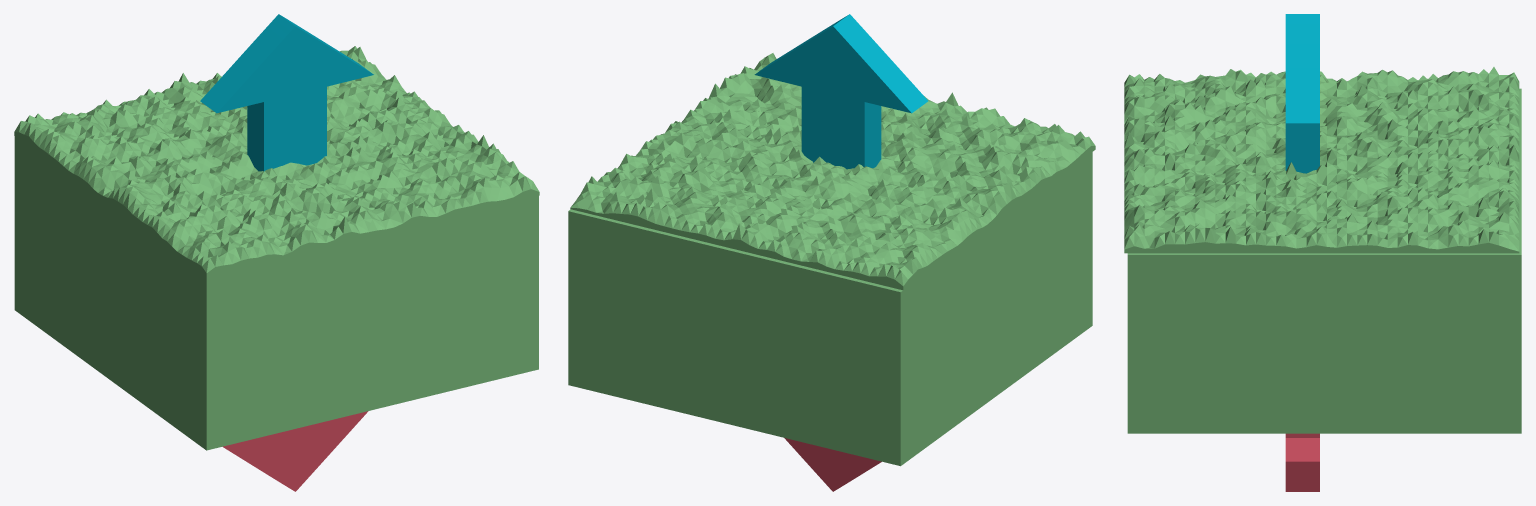
File: Terrain Manipulator.glb
3 renders of one model, left to right at view 1: azimuth 30°, elevation 25°; view 2: azimuth 150°, elevation 25°; view 3: azimuth 270°, elevation 25°, orthographic. The views are drawn at different scales.
Parts seen in each view (by area): view 1: Mesh_Mesh_head_geo.001_lambert2SG.001; view 2: Mesh_Mesh_head_geo.001_lambert2SG.001; view 3: Mesh_Mesh_head_geo.001_lambert2SG.001.
Boxes of the visible parts, <box> form: Mesh_Mesh_head_geo.001_lambert2SG.001: <box>14,14,539,491</box>; Mesh_Mesh_head_geo.001_lambert2SG.001: <box>568,14,1095,491</box>; Mesh_Mesh_head_geo.001_lambert2SG.001: <box>1124,14,1521,491</box>.
Bounding box in the file's own units: 25.51 × 33.99 × 25.62.
